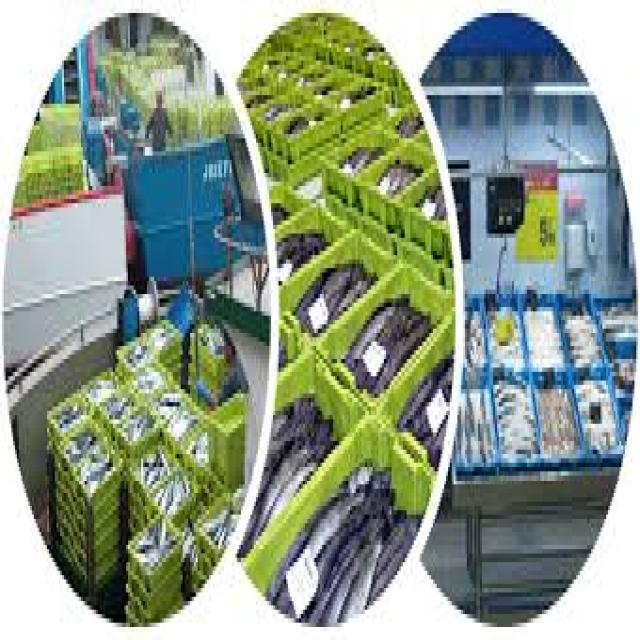basket: (209, 399, 449, 597), (369, 309, 475, 428), (55, 419, 122, 601), (166, 478, 257, 597), (116, 440, 205, 536), (287, 355, 373, 444), (90, 380, 170, 468), (176, 315, 249, 410), (126, 519, 183, 627), (205, 392, 250, 494), (137, 314, 204, 382), (29, 388, 98, 454), (277, 350, 316, 413)
